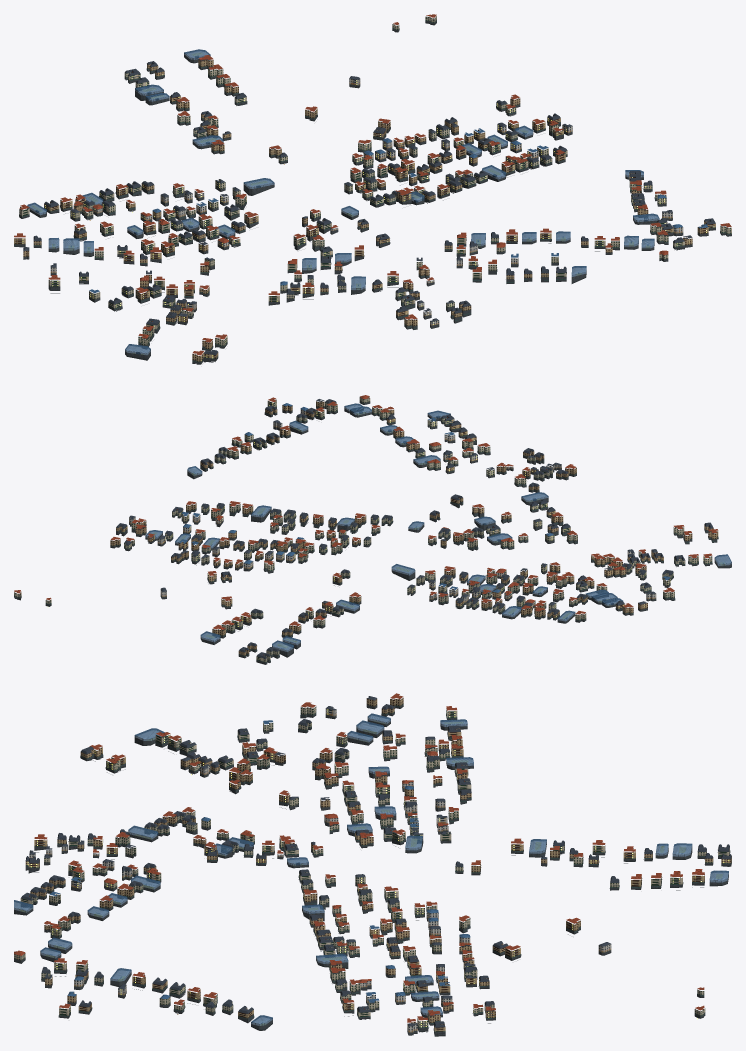
The model's file is osm_buildings_T_E00_N02_Q3.glb.
The picture shows the model from 3 angles, top to bottom: view 1: azimuth 30°, elevation 25°; view 2: azimuth 150°, elevation 25°; view 3: azimuth 270°, elevation 25°; orthographic projection. The views are drawn at different scales.
Visible parts, largest first — view 1: OSM_T_E00_N02_Q3_foundation, OSM_T_E00_N02_Q3_wall_cream_stucco, OSM_T_E00_N02_Q3_wall_french_ochre, OSM_T_E00_N02_Q3_roof_terracotta, OSM_T_E00_N02_Q3_greenhouse_blend, OSM_T_E00_N02_Q3_roof_mansard_slate, OSM_T_E00_N02_Q3_roof_mansard_deck, OSM_T_E00_N02_Q3_roof_mint_metal, OSM_T_E00_N02_Q3_balcony_railing, OSM_T_E00_N02_Q3_wall_pastel_sand, OSM_T_E00_N02_Q3_trim_cornice, OSM_T_E00_N02_Q3_window_emissive_warm (+2 smaller); view 2: OSM_T_E00_N02_Q3_foundation, OSM_T_E00_N02_Q3_wall_cream_stucco, OSM_T_E00_N02_Q3_wall_french_ochre, OSM_T_E00_N02_Q3_greenhouse_blend, OSM_T_E00_N02_Q3_roof_terracotta, OSM_T_E00_N02_Q3_roof_mansard_slate, OSM_T_E00_N02_Q3_roof_mansard_deck, OSM_T_E00_N02_Q3_roof_mint_metal, OSM_T_E00_N02_Q3_trim_cornice, OSM_T_E00_N02_Q3_wall_pastel_sand, OSM_T_E00_N02_Q3_wall_warm_white, OSM_T_E00_N02_Q3_roof_alpine_blue (+2 smaller); view 3: OSM_T_E00_N02_Q3_foundation, OSM_T_E00_N02_Q3_wall_cream_stucco, OSM_T_E00_N02_Q3_wall_french_ochre, OSM_T_E00_N02_Q3_greenhouse_blend, OSM_T_E00_N02_Q3_roof_terracotta, OSM_T_E00_N02_Q3_roof_mansard_slate, OSM_T_E00_N02_Q3_roof_mansard_deck, OSM_T_E00_N02_Q3_trim_cornice, OSM_T_E00_N02_Q3_roof_mint_metal, OSM_T_E00_N02_Q3_wall_pastel_sand, OSM_T_E00_N02_Q3_balcony_railing, OSM_T_E00_N02_Q3_wall_warm_white (+2 smaller).
Part boxes in pixels (x1=…): OSM_T_E00_N02_Q3_foundation: x1=14, y1=20, x2=731, y2=364; OSM_T_E00_N02_Q3_wall_cream_stucco: x1=19, y1=16, x2=731, y2=345; OSM_T_E00_N02_Q3_wall_french_ochre: x1=14, y1=59, x2=715, y2=361; OSM_T_E00_N02_Q3_roof_terracotta: x1=14, y1=14, x2=731, y2=355; OSM_T_E00_N02_Q3_greenhouse_blend: x1=27, y1=49, x2=659, y2=355; OSM_T_E00_N02_Q3_roof_mansard_slate: x1=23, y1=62, x2=715, y2=355; OSM_T_E00_N02_Q3_roof_mansard_deck: x1=34, y1=54, x2=714, y2=353; OSM_T_E00_N02_Q3_roof_mint_metal: x1=14, y1=20, x2=731, y2=362; OSM_T_E00_N02_Q3_balcony_railing: x1=16, y1=23, x2=727, y2=362; OSM_T_E00_N02_Q3_wall_pastel_sand: x1=50, y1=78, x2=683, y2=325; OSM_T_E00_N02_Q3_trim_cornice: x1=24, y1=16, x2=730, y2=360; OSM_T_E00_N02_Q3_window_emissive_warm: x1=22, y1=53, x2=706, y2=360; OSM_T_E00_N02_Q3_foundation: x1=14, y1=400, x2=731, y2=664; OSM_T_E00_N02_Q3_wall_cream_stucco: x1=14, y1=397, x2=712, y2=662; OSM_T_E00_N02_Q3_wall_french_ochre: x1=110, y1=401, x2=718, y2=655; OSM_T_E00_N02_Q3_greenhouse_blend: x1=145, y1=403, x2=731, y2=651; OSM_T_E00_N02_Q3_roof_terracotta: x1=14, y1=395, x2=718, y2=655; OSM_T_E00_N02_Q3_roof_mansard_slate: x1=116, y1=399, x2=713, y2=658; OSM_T_E00_N02_Q3_roof_mansard_deck: x1=117, y1=399, x2=731, y2=656; OSM_T_E00_N02_Q3_roof_mint_metal: x1=17, y1=406, x2=718, y2=662; OSM_T_E00_N02_Q3_trim_cornice: x1=19, y1=396, x2=716, y2=658; OSM_T_E00_N02_Q3_wall_pastel_sand: x1=157, y1=409, x2=656, y2=602; OSM_T_E00_N02_Q3_wall_warm_white: x1=129, y1=453, x2=554, y2=605; OSM_T_E00_N02_Q3_roof_alpine_blue: x1=179, y1=403, x2=670, y2=592; OSM_T_E00_N02_Q3_foundation: x1=14, y1=704, x2=731, y2=1036; OSM_T_E00_N02_Q3_wall_cream_stucco: x1=14, y1=707, x2=729, y2=1027; OSM_T_E00_N02_Q3_wall_french_ochre: x1=25, y1=698, x2=731, y2=1031; OSM_T_E00_N02_Q3_greenhouse_blend: x1=14, y1=713, x2=728, y2=1025; OSM_T_E00_N02_Q3_roof_terracotta: x1=14, y1=693, x2=704, y2=1022; OSM_T_E00_N02_Q3_roof_mansard_slate: x1=21, y1=696, x2=731, y2=1027; OSM_T_E00_N02_Q3_roof_mansard_deck: x1=18, y1=704, x2=730, y2=1025; OSM_T_E00_N02_Q3_trim_cornice: x1=14, y1=699, x2=728, y2=1034; OSM_T_E00_N02_Q3_roof_mint_metal: x1=26, y1=704, x2=731, y2=1031; OSM_T_E00_N02_Q3_wall_pastel_sand: x1=29, y1=707, x2=611, y2=1004; OSM_T_E00_N02_Q3_balcony_railing: x1=15, y1=698, x2=729, y2=1025; OSM_T_E00_N02_Q3_wall_warm_white: x1=46, y1=753, x2=447, y2=1032.
Size of the model in its own units: 1000 by 78.27 by 997.
16 materials, 16 textured.
